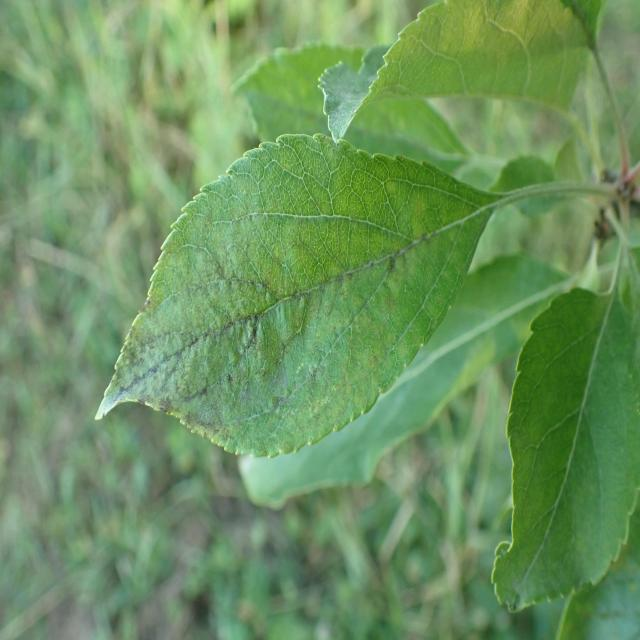scab: (80, 211, 462, 457), (509, 328, 619, 581)
